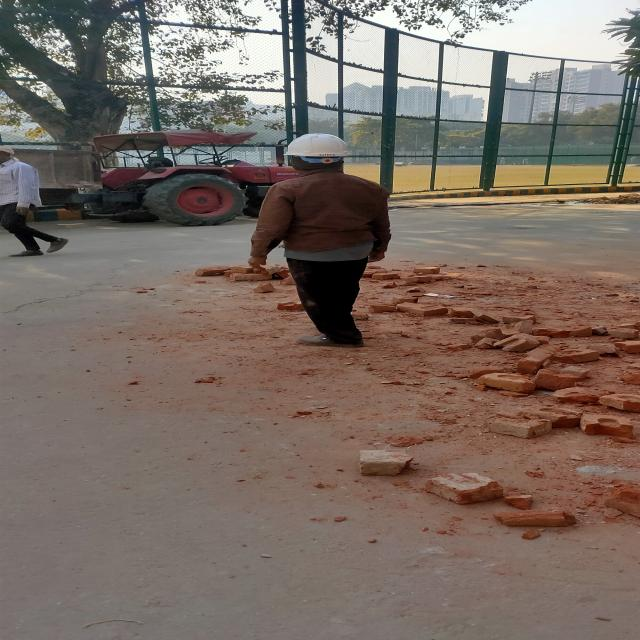no jacket: (248, 131, 392, 348)
unsafe: (0, 145, 69, 258)
